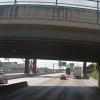Bridge: (2, 1, 94, 65)
